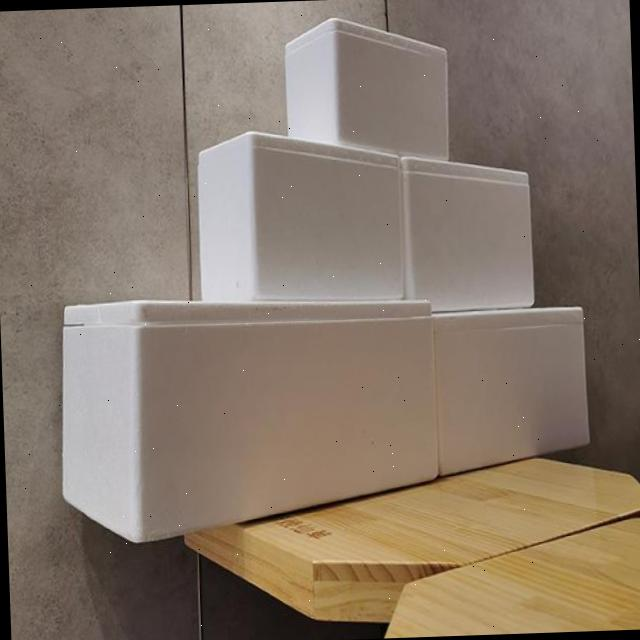styrofoam: (44, 6, 593, 546), (54, 286, 442, 546)
